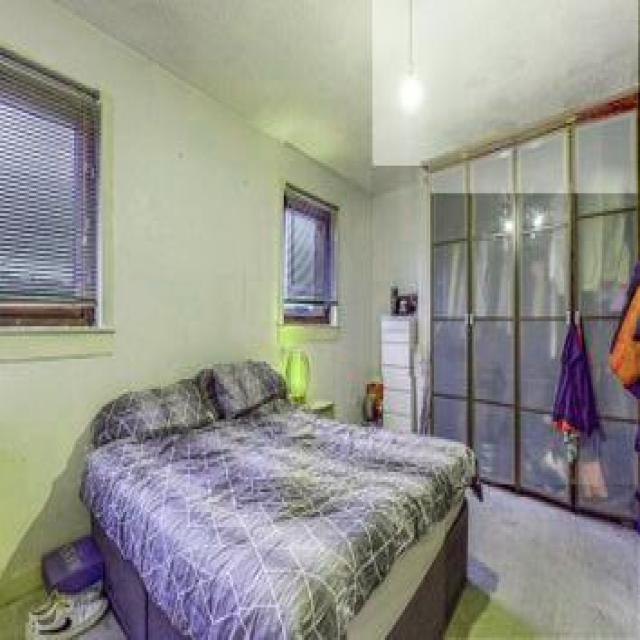Wall: (0, 0, 372, 600), (61, 0, 638, 193), (445, 485, 640, 637), (372, 168, 428, 376)
